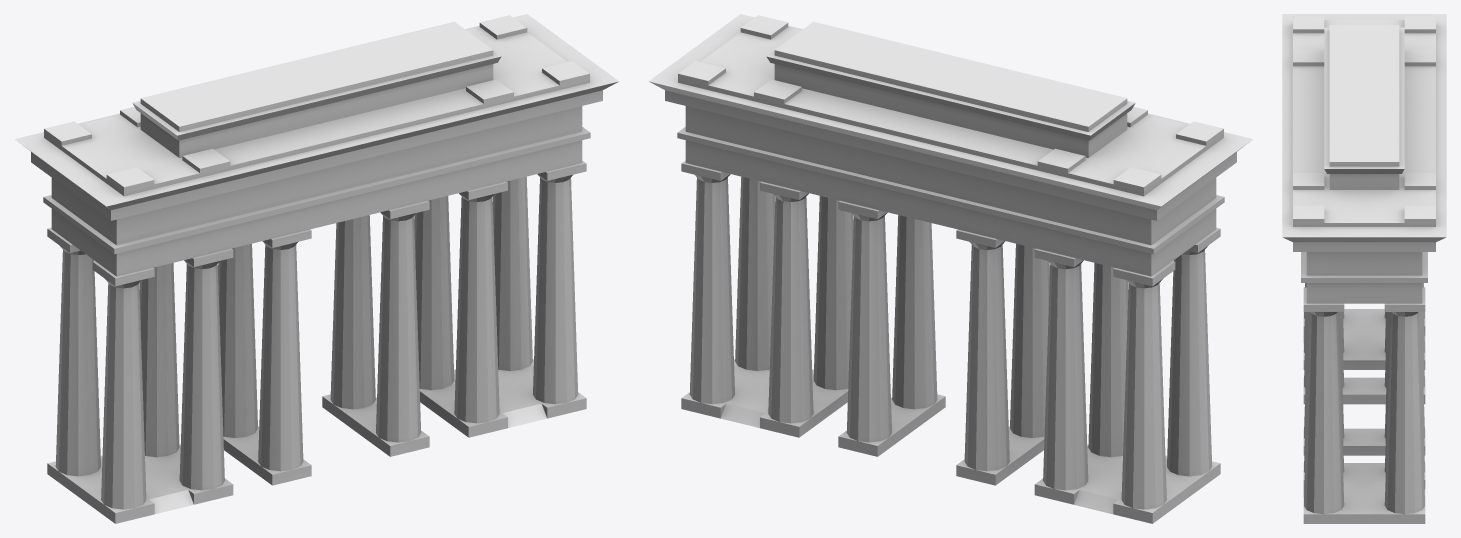
File: moscowgate.dae
The picture shows the model from 3 angles, left to right: view 1: azimuth 30°, elevation 25°; view 2: azimuth 150°, elevation 25°; view 3: azimuth 270°, elevation 25°; orthographic projection. The views are drawn at different scales.
Visible parts, largest first — view 1: moscowgate; view 2: moscowgate; view 3: moscowgate.
Part boxes in pixels (x1,y1,x2,y2): moscowgate: [15, 14, 618, 523]; moscowgate: [649, 14, 1252, 523]; moscowgate: [1282, 14, 1446, 523].
Size of the model in its own units: 0.0598 by 0.0186 by 0.0409.
1 material, 1 textured.
